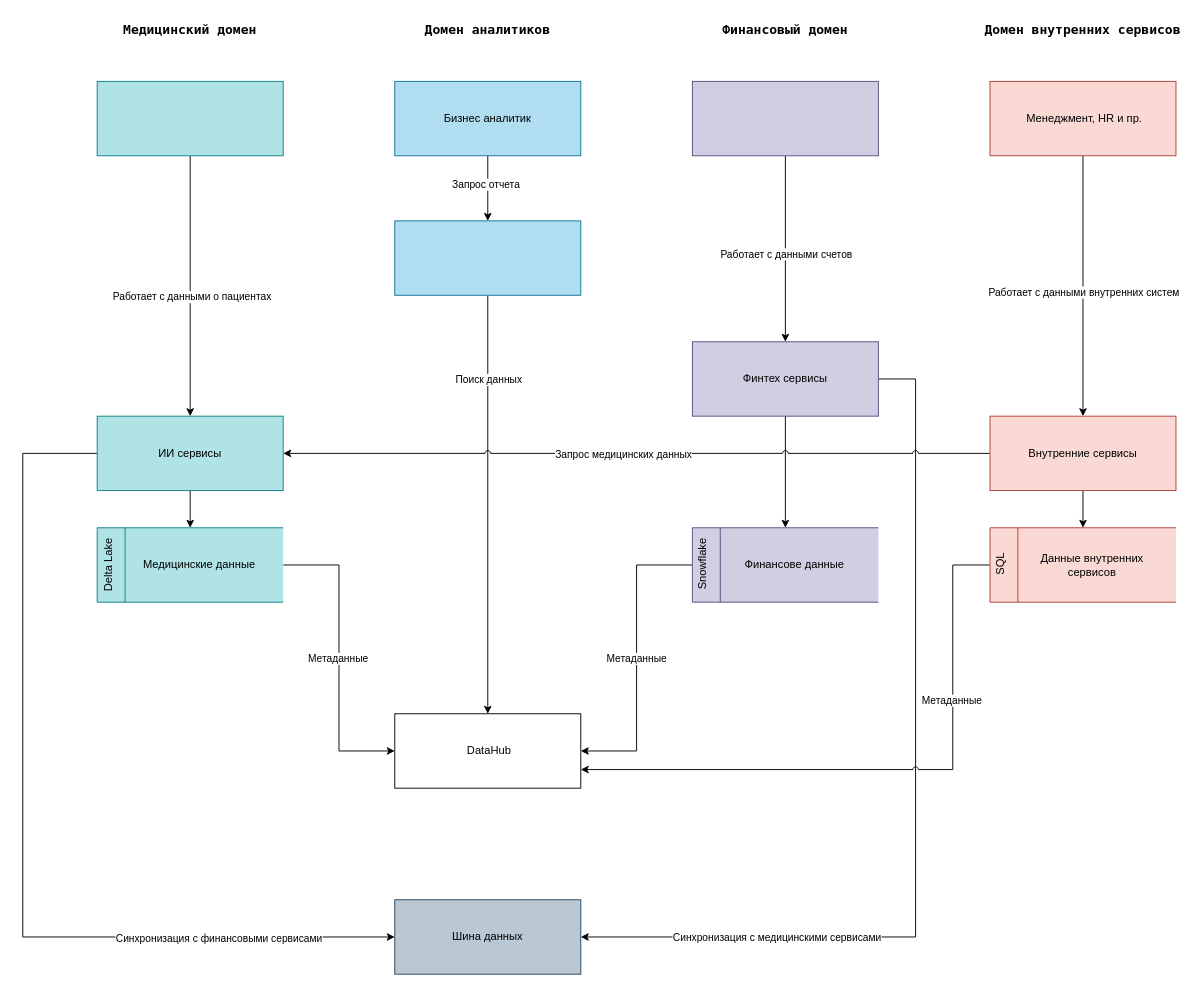
This 1197x990 diagram has some shape labels left out. The shapes that lost their labels are listed below. From the top down, each one's centre as x and y in pixels, then its label:
At [189,118]: "Оператор".
At [784,118]: "Финансист".
At [487,257]: "BI система".
